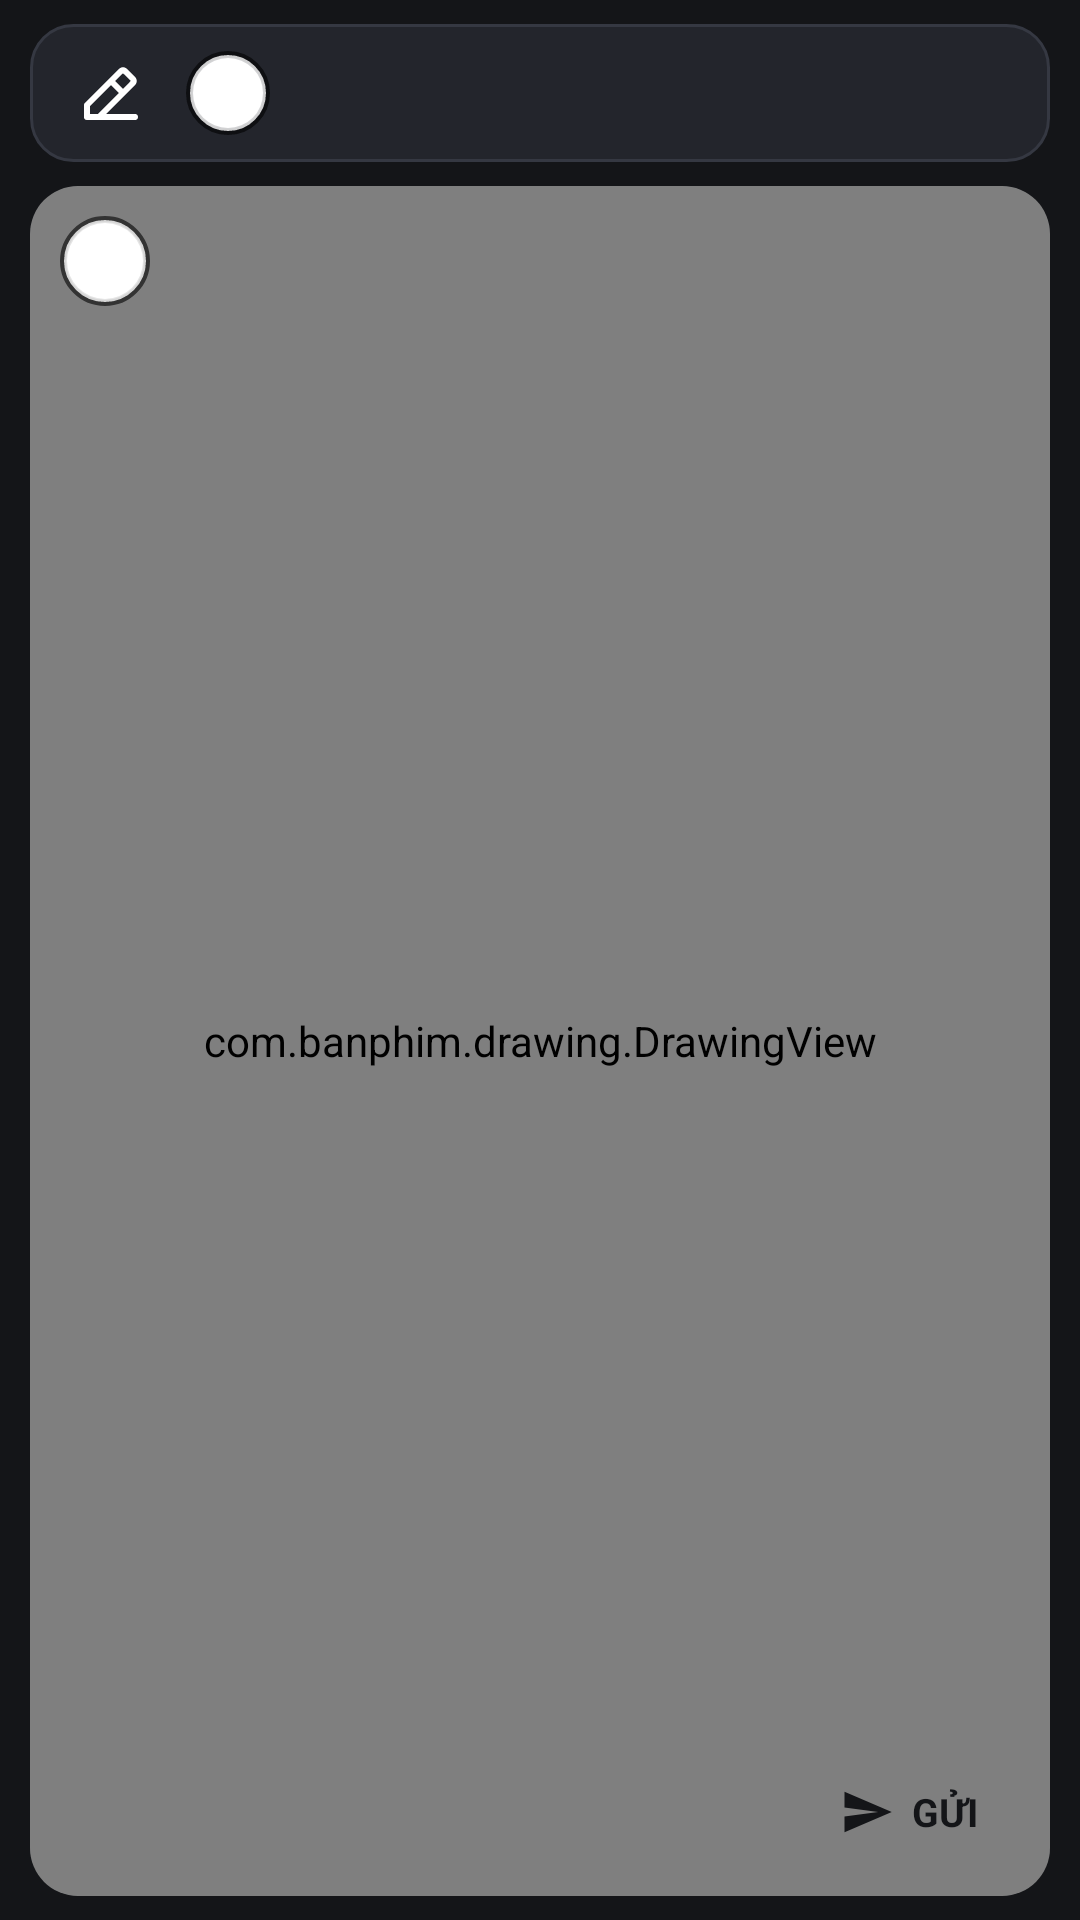

Icons on this 1080×1920 Android screen, each with its box as (x1, y1, x2, y2):
send: (844, 1792, 891, 1832)
